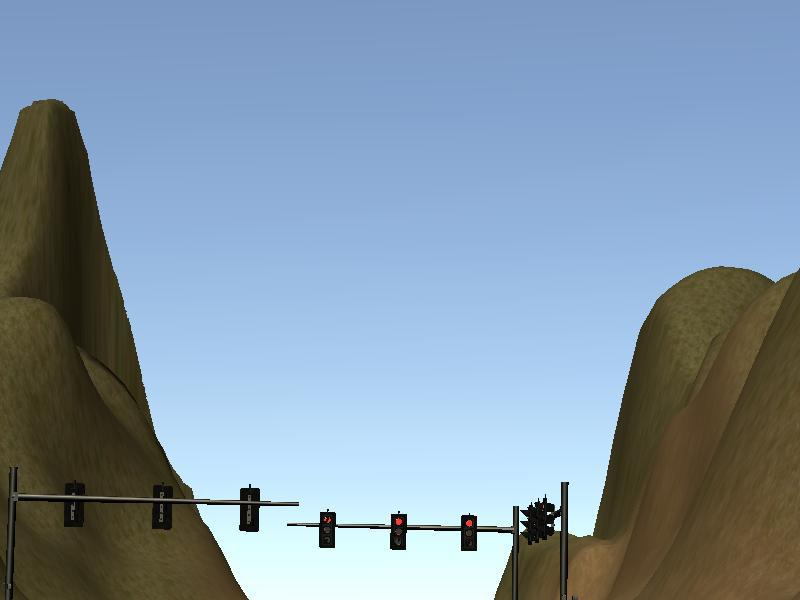Red: (391, 515, 406, 548), (461, 516, 476, 549), (321, 512, 335, 543)
